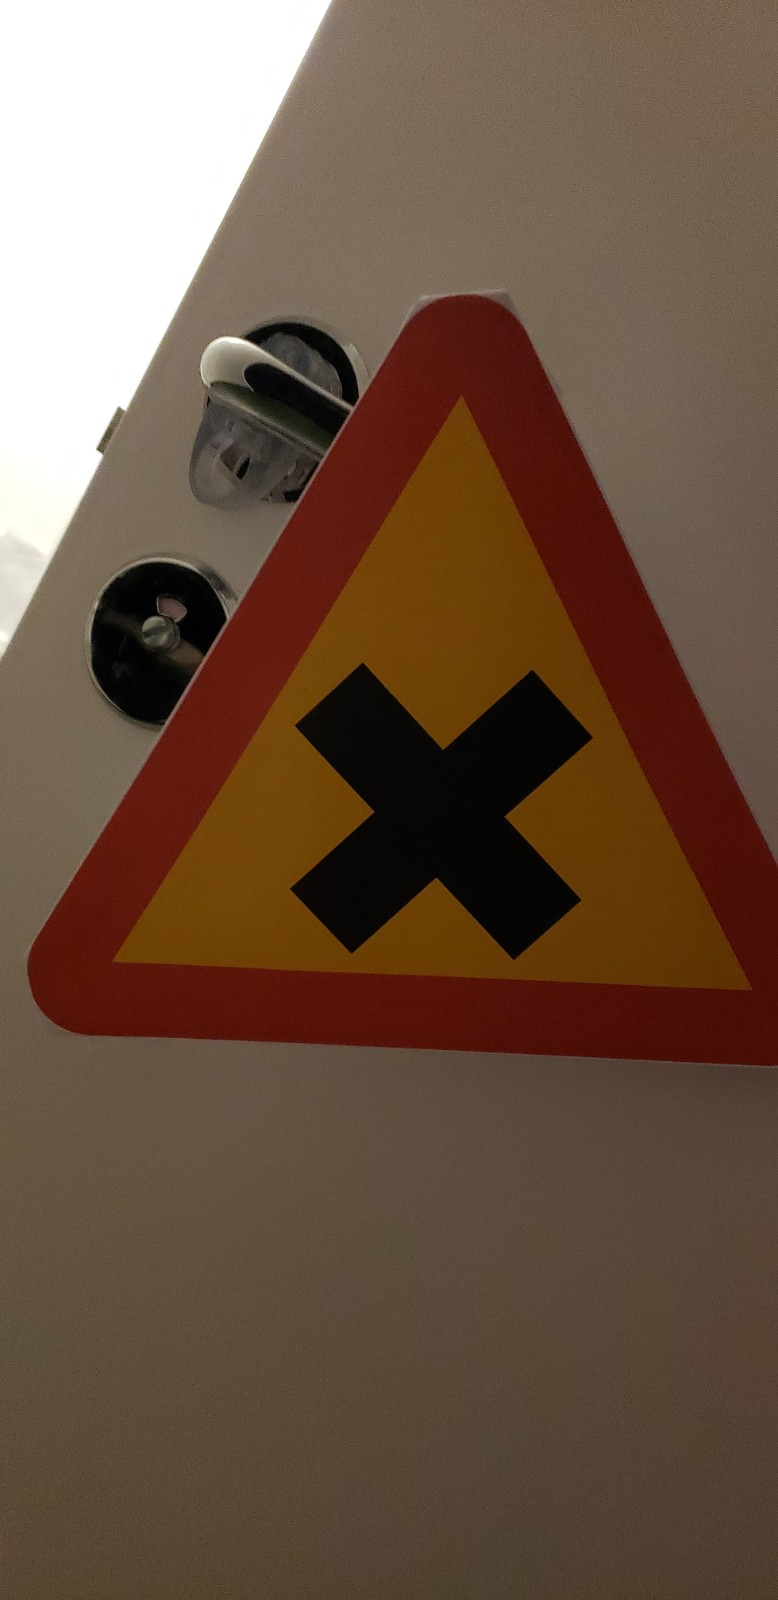junction: (31, 236, 778, 1066)
